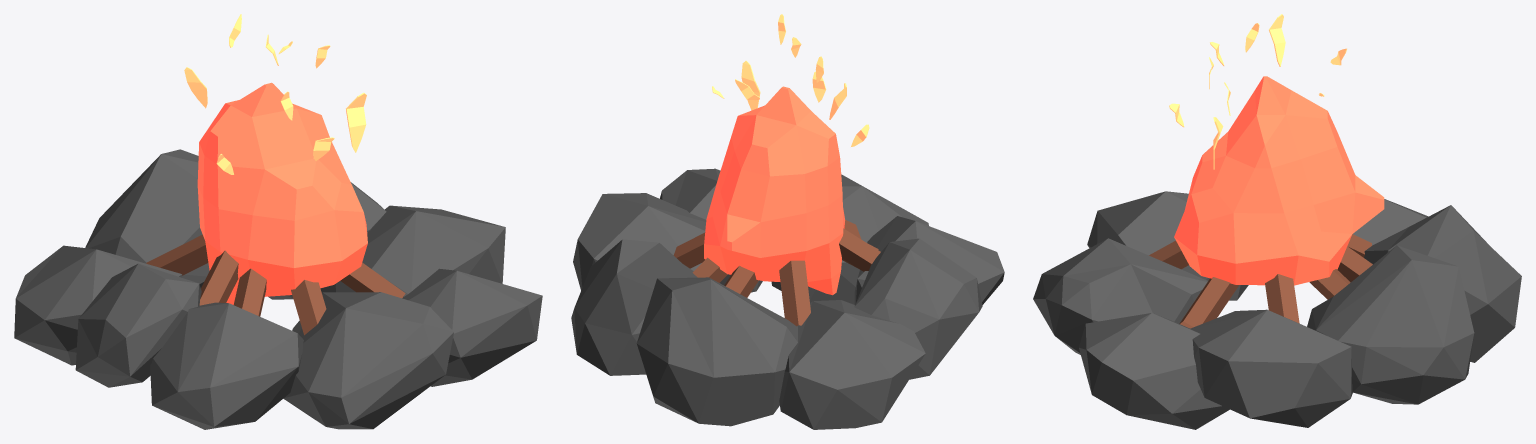
Rendered from campfire.fbx.
3 renders of one model, left to right at view 1: azimuth 30°, elevation 25°; view 2: azimuth 150°, elevation 25°; view 3: azimuth 270°, elevation 25°, orthographic. The views are drawn at different scales.
Visible parts, largest first — view 1: Camp Fire.001; view 2: Camp Fire.001; view 3: Camp Fire.001.
Part boxes in pixels (bbox=[...]): Camp Fire.001: bbox=[14, 14, 542, 429]; Camp Fire.001: bbox=[571, 14, 1004, 429]; Camp Fire.001: bbox=[1033, 14, 1521, 429].
Bounding box in the file's own units: 202 × 163 × 211.
